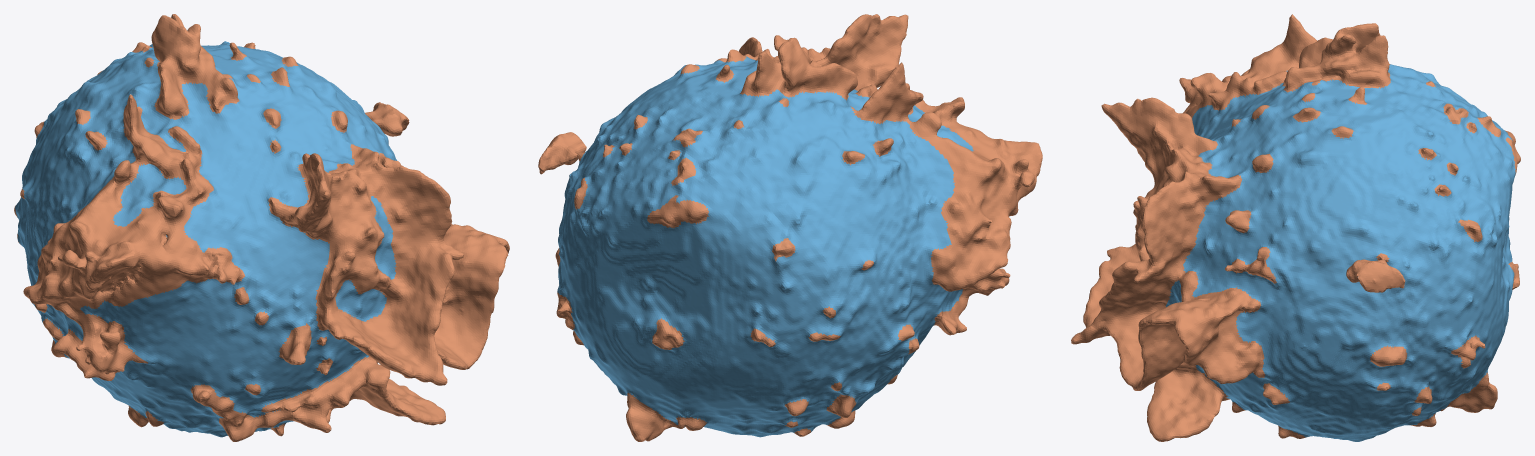
3 renders of one model, left to right at view 1: azimuth 30°, elevation 25°; view 2: azimuth 150°, elevation 25°; view 3: azimuth 270°, elevation 25°, orthographic. The views are drawn at different scales.
Size of the model in its own units: 178 by 164 by 175.
